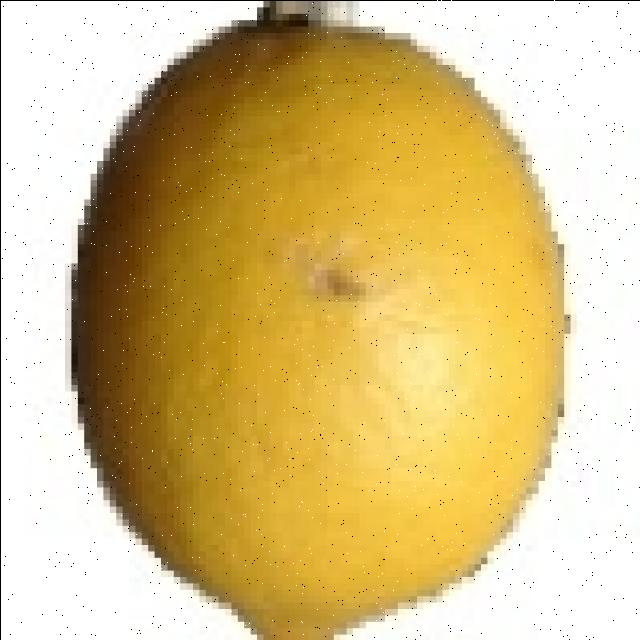lemon: (76, 22, 562, 640)
